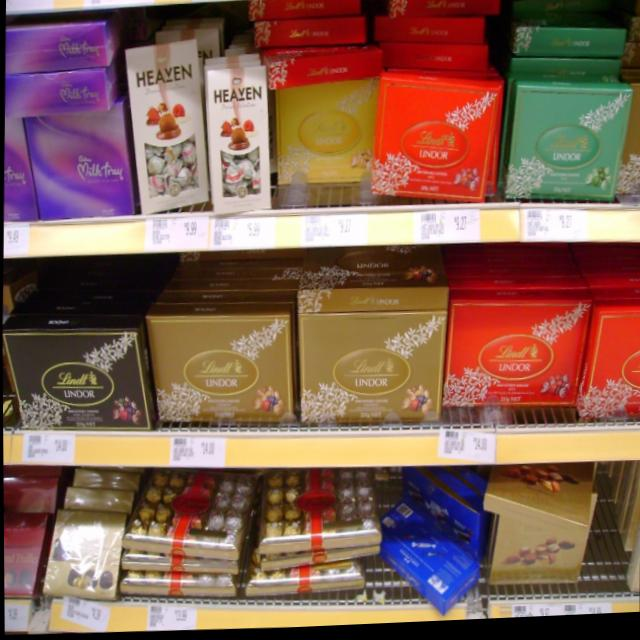q112: (294, 296, 448, 426), (143, 306, 296, 435)
q115: (2, 317, 151, 449)
